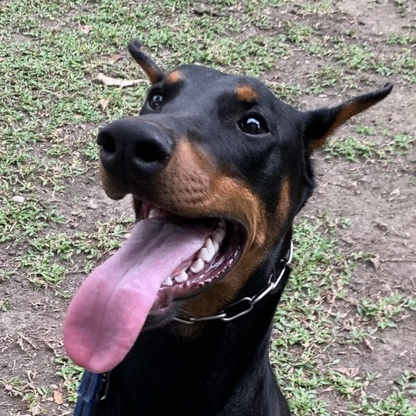doberman: (80, 37, 395, 408)
